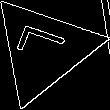L_E: (13, 26, 74, 73)
